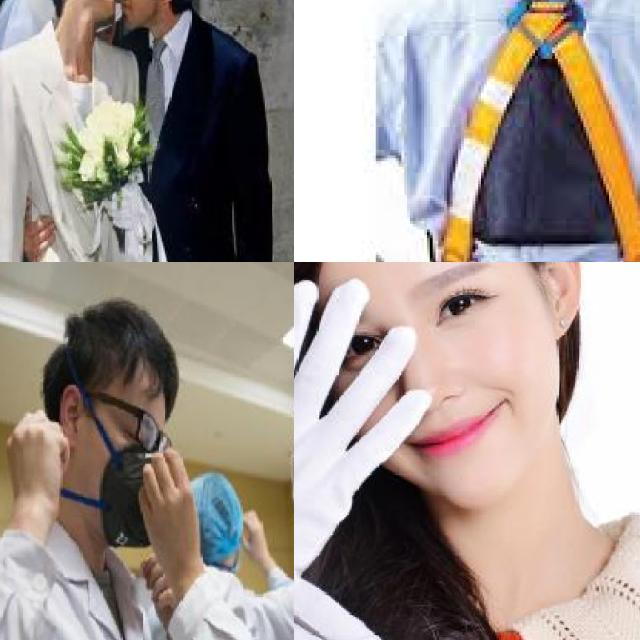Harness: (375, 0, 640, 262)
No_Ear-Protection: (529, 262, 587, 334)
No_Glasses: (417, 262, 504, 344)
face_mask: (84, 380, 170, 560)
face_nomask: (302, 262, 582, 489), (60, 0, 126, 32), (117, 0, 154, 31)
glasses: (103, 393, 186, 456)
hand_glove: (294, 275, 433, 626), (105, 180, 143, 234)
hand_noglove: (136, 445, 199, 564), (5, 408, 70, 502), (20, 198, 58, 262), (140, 553, 174, 616), (239, 505, 263, 565)
head_nohelmet: (79, 286, 171, 392)
person: (294, 262, 640, 640), (0, 288, 223, 640), (95, 0, 294, 262), (0, 0, 160, 262), (200, 274, 294, 640)
